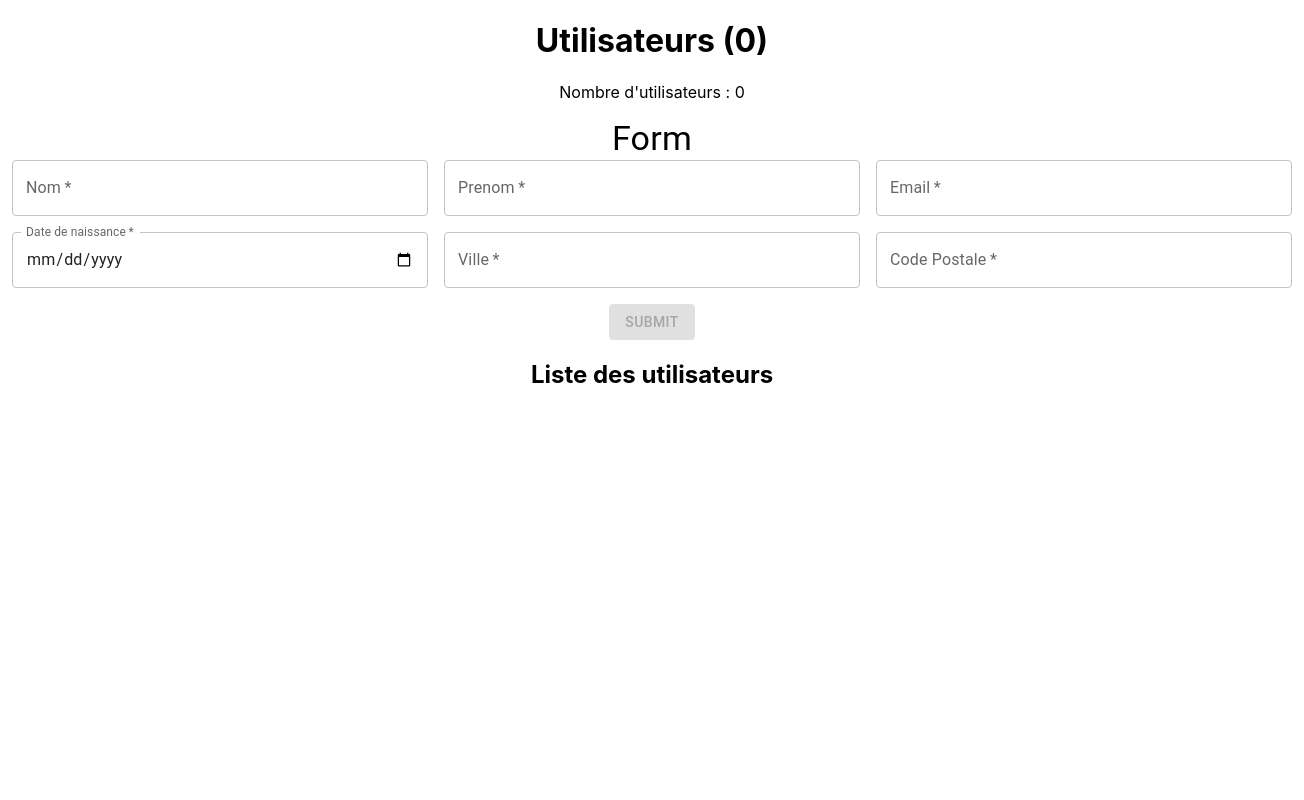
Test: App Component › ajoute un utilisateur via le formulaire et met à jour la liste
Type "Nouveau" into the field labelled "Nom *" at (220, 188), box left=12, top=160, right=428, bottom=216
Type "User" into the field labelled "Prenom *" at (652, 188), box left=444, top=160, right=860, bottom=216
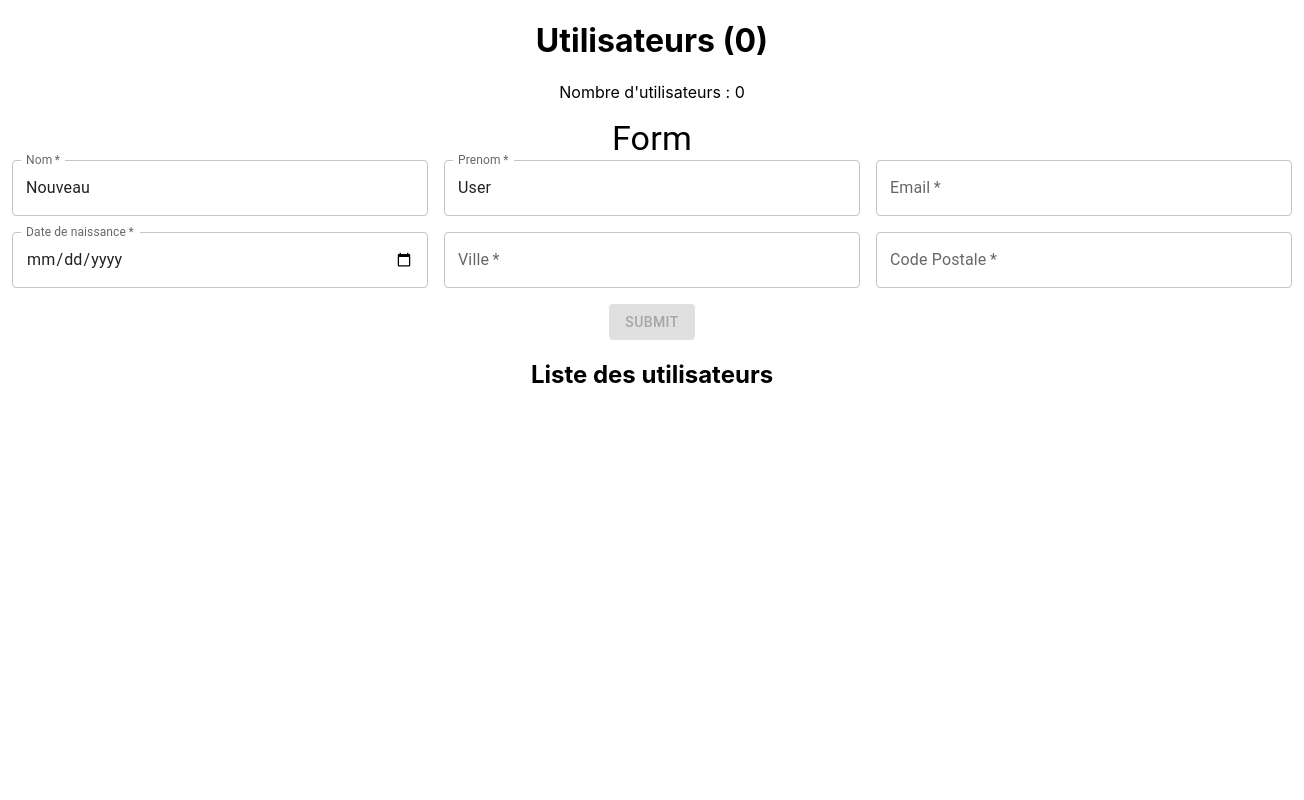
Type "nouveau@ex.com" into the field labelled "Email *" at (1084, 188), box left=876, top=160, right=1292, bottom=216
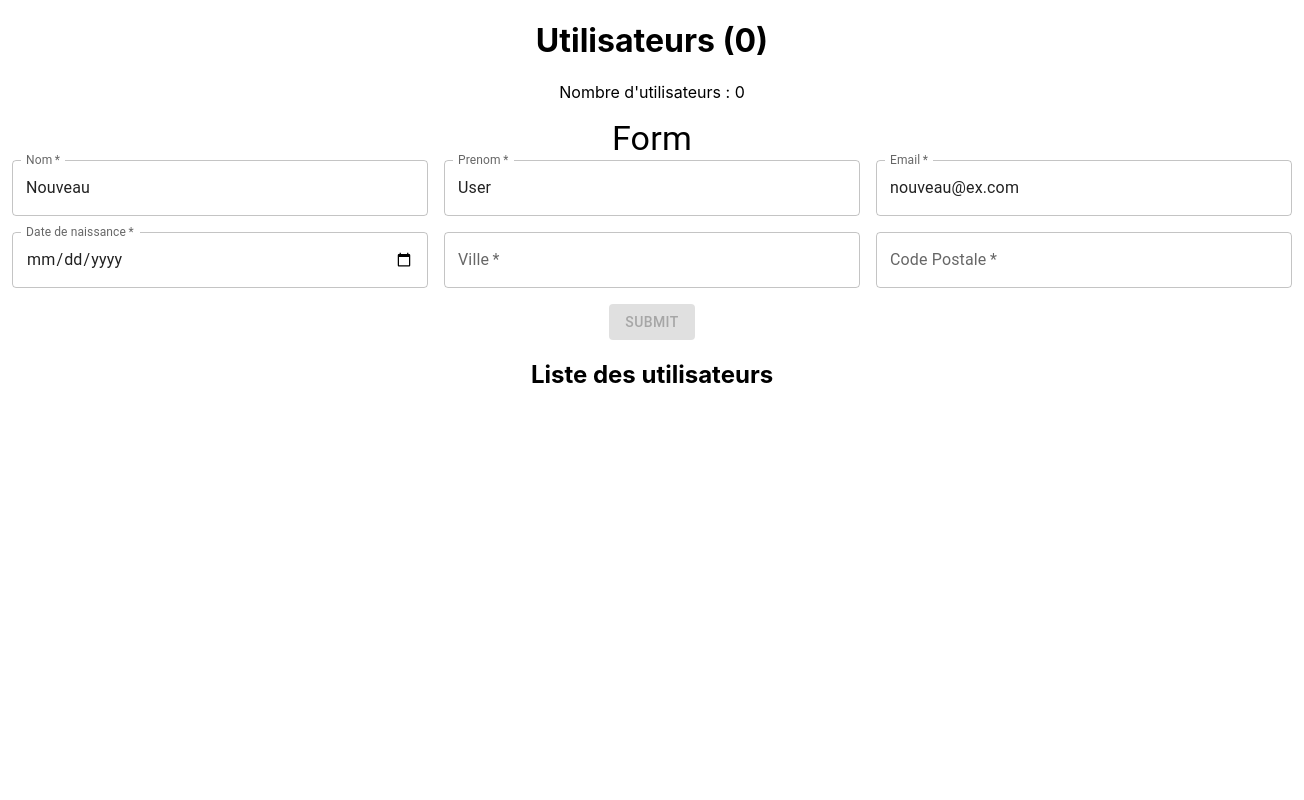
Type "2000-01-01" into the date field labelled "Date de naissance *" at (220, 260), box left=12, top=232, right=428, bottom=288
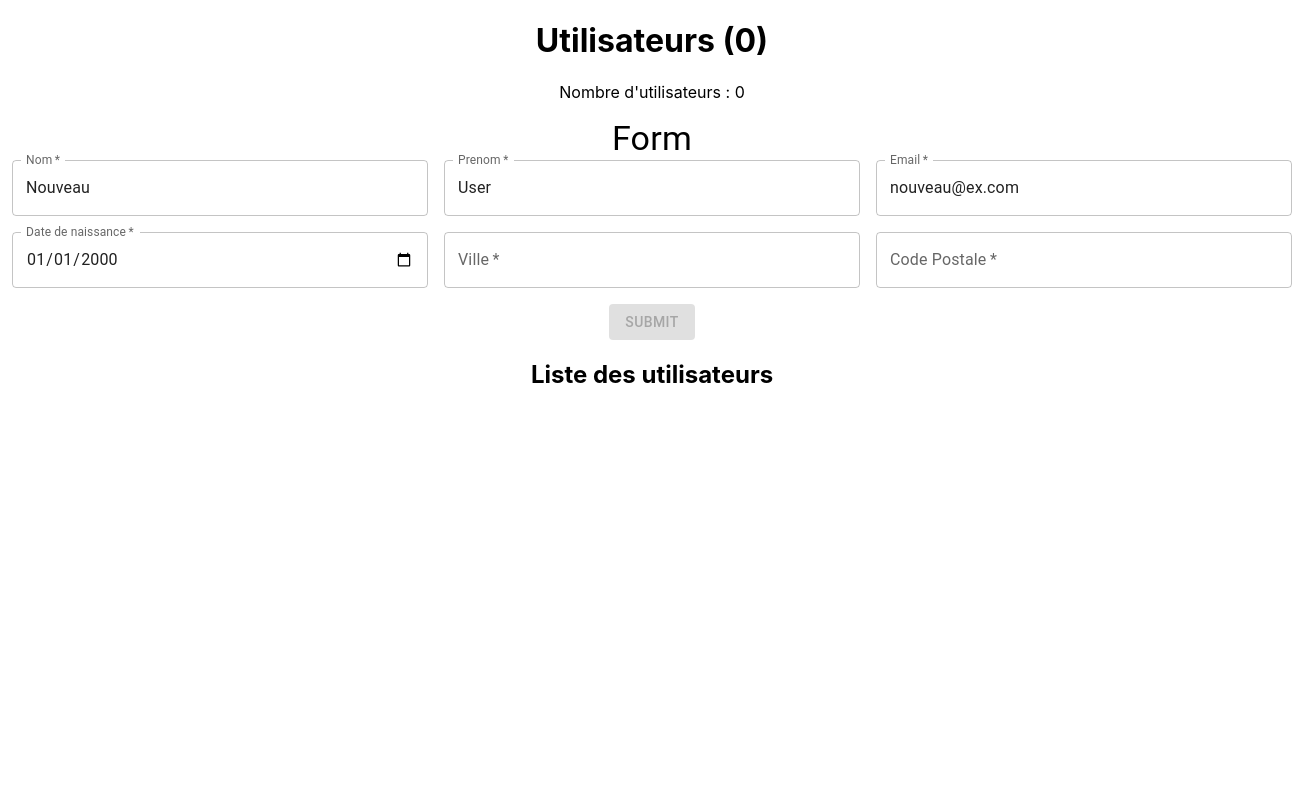
Type "Paris" into the field labelled "Ville *" at (652, 260), box left=444, top=232, right=860, bottom=288
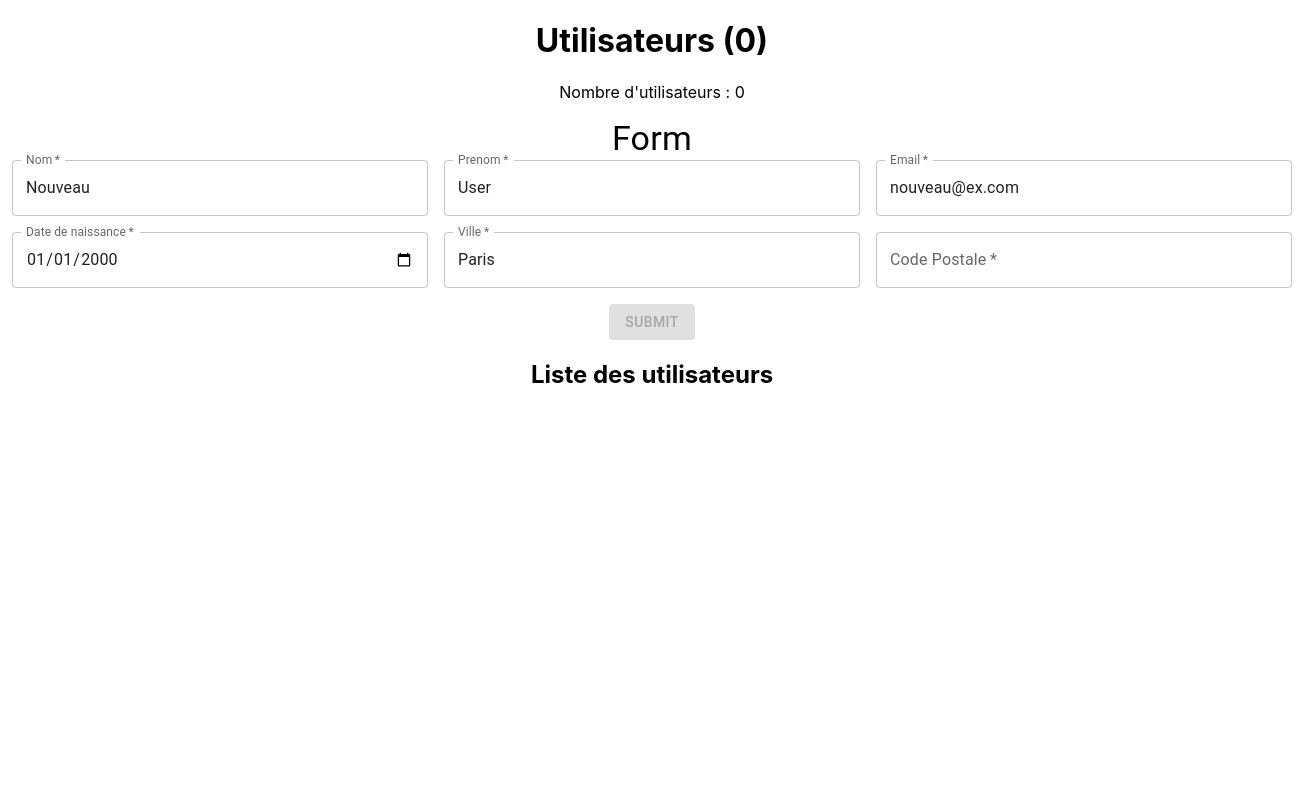
Type "75000" into the field labelled "Code Postale *" at (1084, 260), box left=876, top=232, right=1292, bottom=288
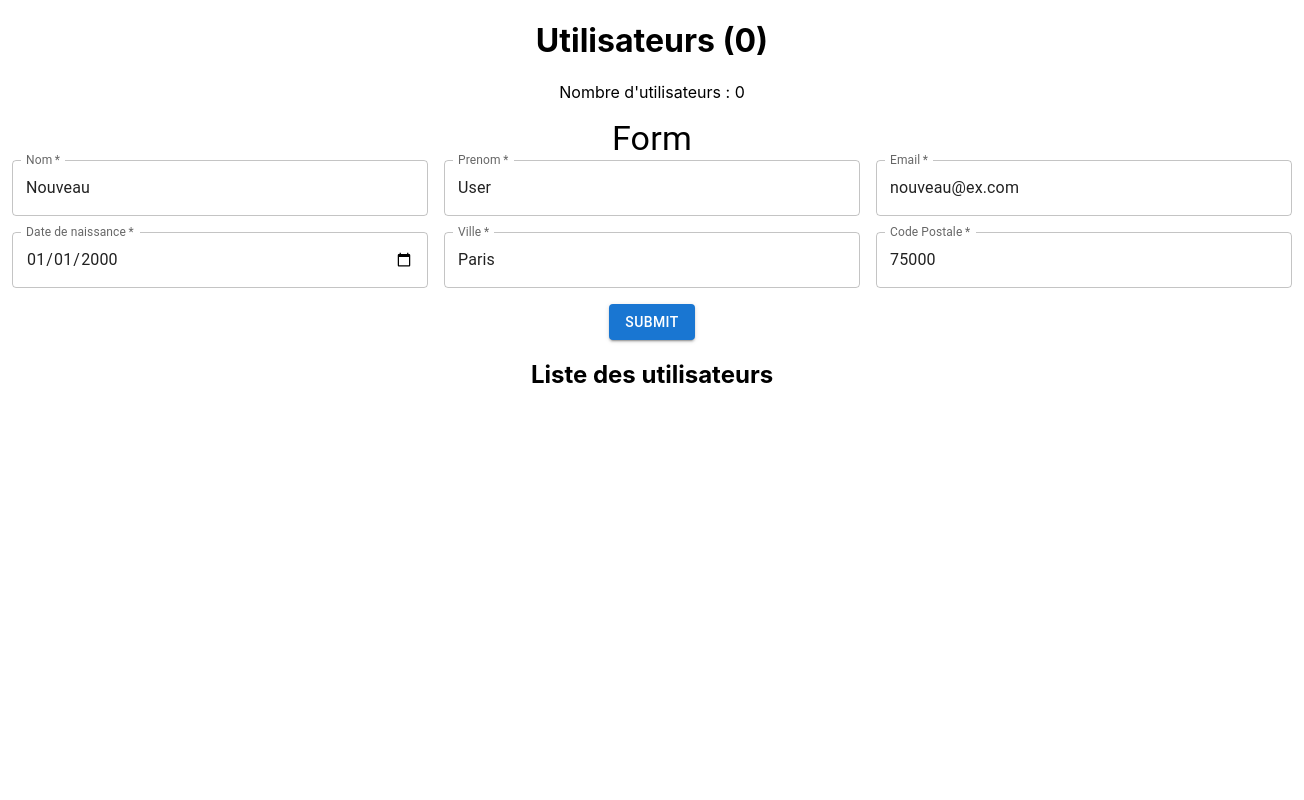
Click the button "Submit" at (652, 322), box left=609, top=304, right=695, bottom=340
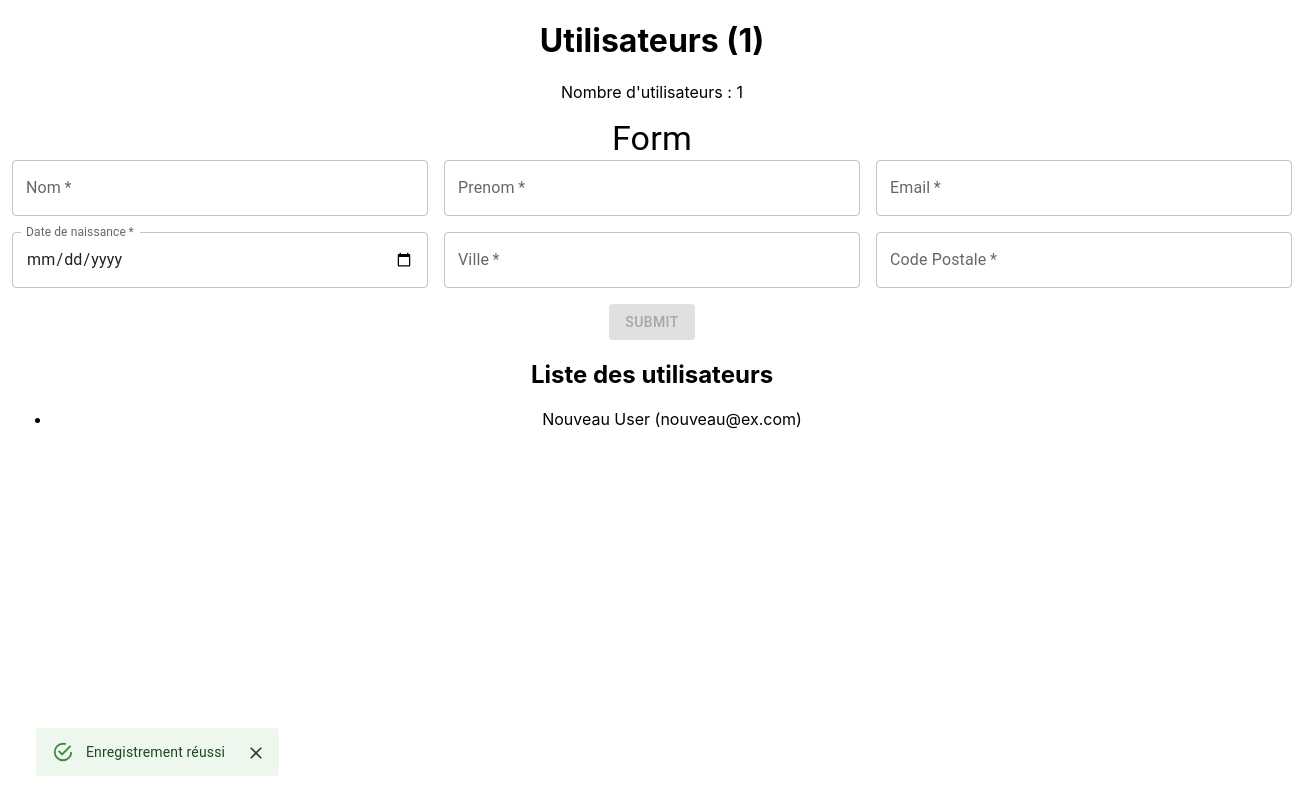
Now the list item "Nouveau User (nouveau@ex.com)" is shown, box left=542, top=409, right=802, bottom=429
